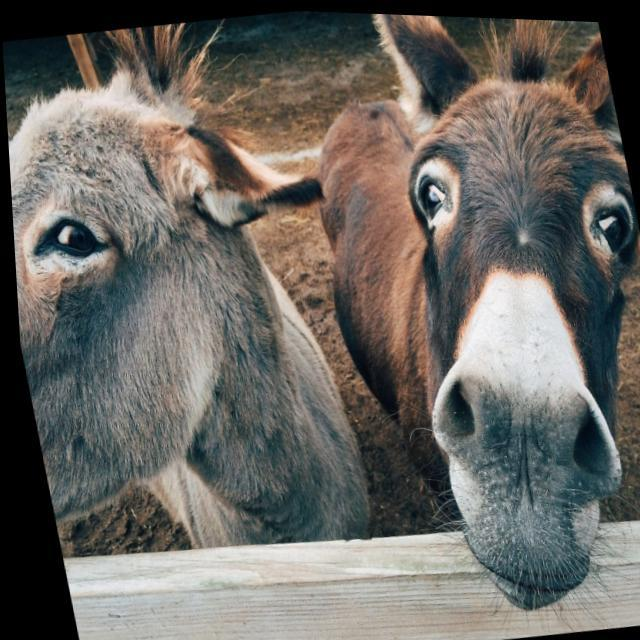Donkey: (275, 8, 640, 639), (0, 2, 388, 580)
